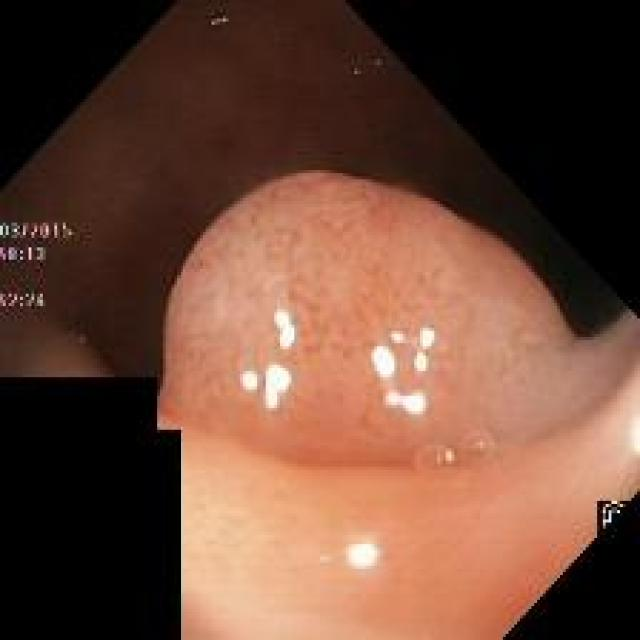Polyps: (161, 173, 640, 466)
